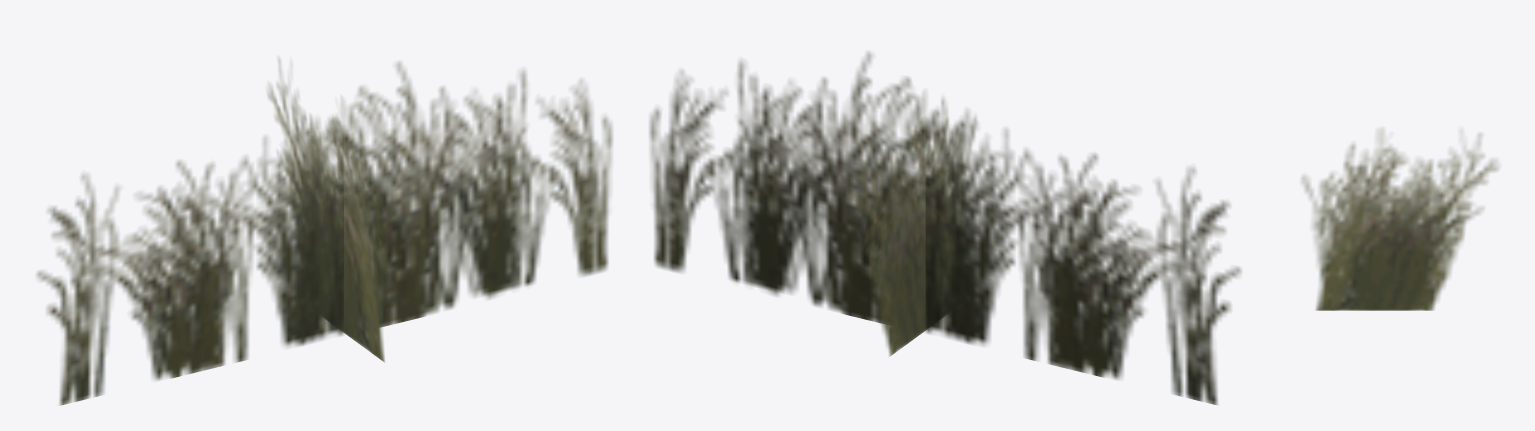
The model's file is forest_shrub_0.glb.
The picture shows the model from 3 angles, left to right: view 1: azimuth 30°, elevation 25°; view 2: azimuth 150°, elevation 25°; view 3: azimuth 270°, elevation 25°; orthographic projection. The views are drawn at different scales.
Parts seen in each view (by area): view 1: Background_Tree_Atlas.008_Background_Tree_Atlas_0; view 2: Background_Tree_Atlas.008_Background_Tree_Atlas_0; view 3: Background_Tree_Atlas.008_Background_Tree_Atlas_0.
Part boxes in pixels (x1,y1,x2,y2): Background_Tree_Atlas.008_Background_Tree_Atlas_0: (37, 58, 612, 405); Background_Tree_Atlas.008_Background_Tree_Atlas_0: (649, 52, 1240, 404); Background_Tree_Atlas.008_Background_Tree_Atlas_0: (1302, 129, 1498, 310).
Size of the model in its own units: 2.61 by 1.1 by 1.1.
Materials: 1 (1 with a texture image).
